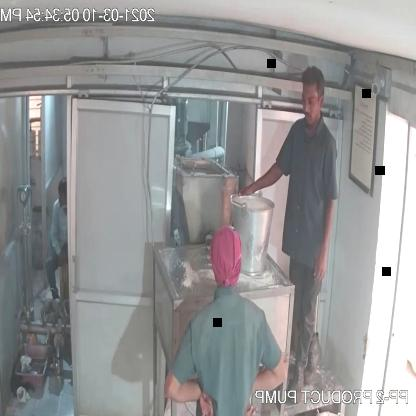no_glove: (233, 142, 295, 209), (309, 180, 344, 294), (161, 361, 227, 416)
